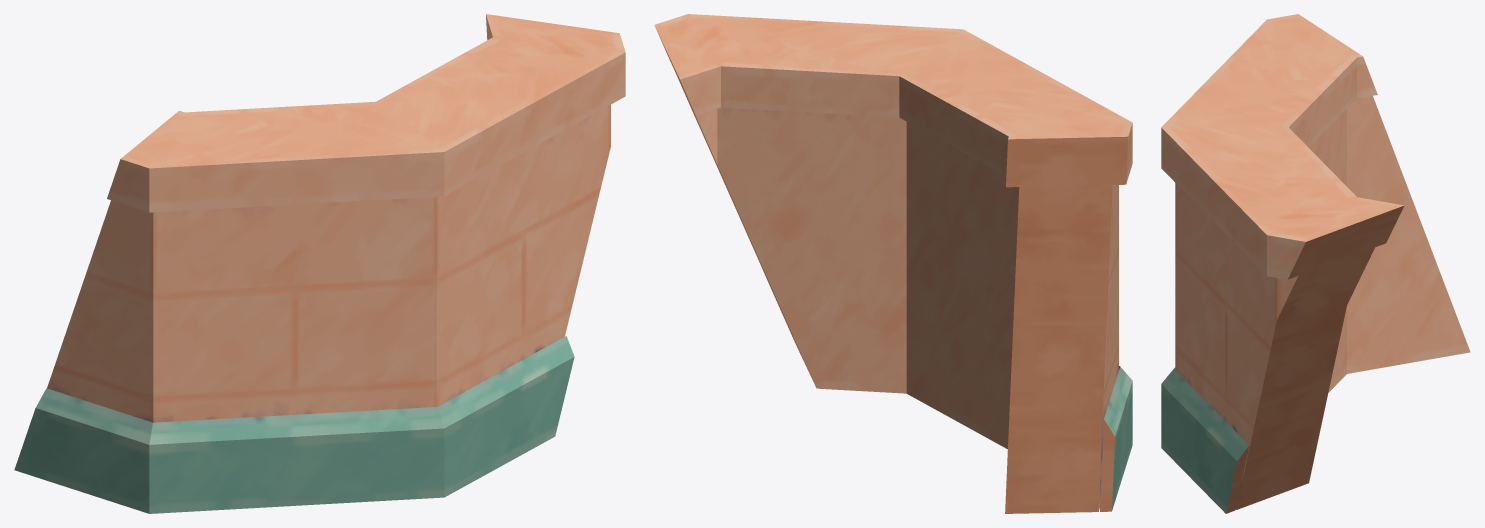
Rendered from well_s04.fbx.
3 views of the same model, side by side, from view 1: azimuth 30°, elevation 25°; view 2: azimuth 150°, elevation 25°; view 3: azimuth 270°, elevation 25° (orthographic). The views are drawn at different scales.
Visible parts, largest first — view 1: well_s04; view 2: well_s04; view 3: well_s04.
Part boxes in pixels (bbox=[...]): well_s04: bbox=[14, 14, 625, 513]; well_s04: bbox=[654, 14, 1132, 513]; well_s04: bbox=[1161, 14, 1470, 513].
Size of the model in its own units: 4.15 by 2.5 by 2.19.
